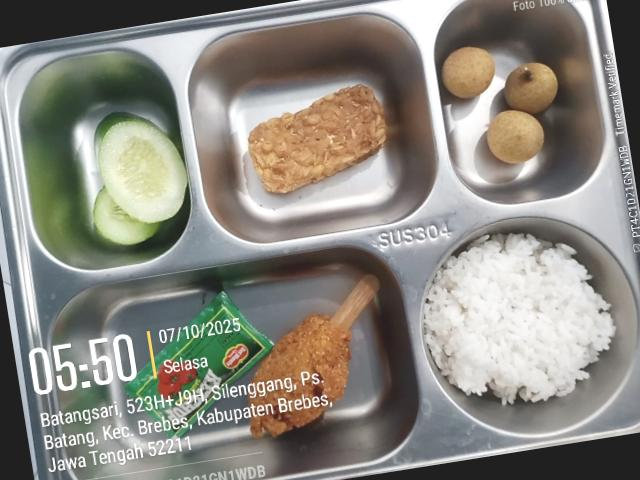ayam: (249, 314, 351, 437)
buah: (486, 63, 557, 164), (441, 47, 495, 99)
nasi: (423, 233, 615, 405)
sayur: (93, 113, 188, 245)
tempe: (247, 85, 386, 193)
